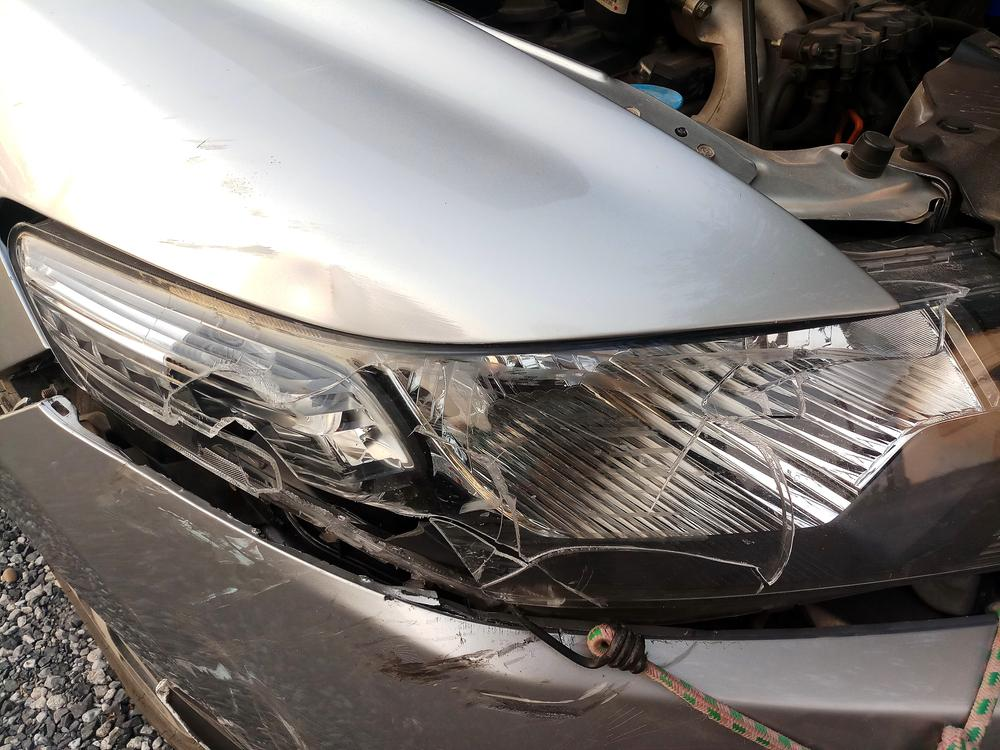dent: (226, 261, 460, 340)
lamp broken: (8, 219, 1000, 605)
scratch: (115, 467, 262, 699), (341, 605, 628, 721), (160, 122, 305, 263)
